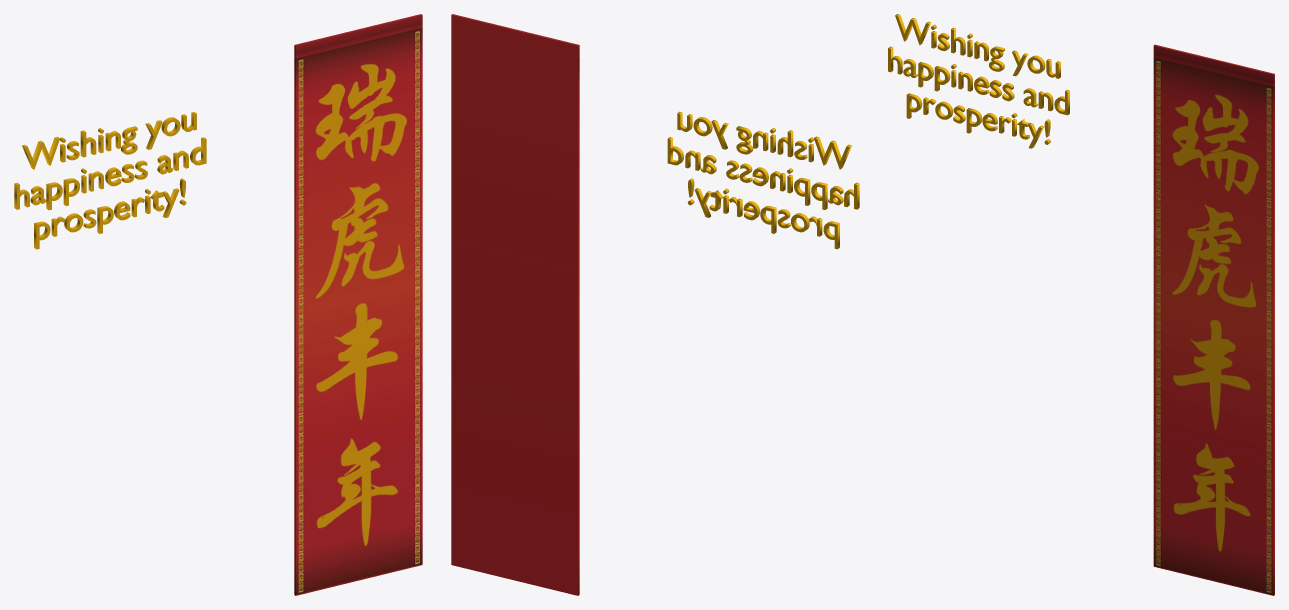
Rendered from scroll2.gltf.
3 views of the same model, side by side, from view 1: azimuth 30°, elevation 25°; view 2: azimuth 150°, elevation 25°; view 3: azimuth 330°, elevation 25° (orthographic). The views are drawn at different scales.
Parts seen in each view (by area): view 1: ChineseScroll, Text; view 2: ChineseScroll, Text; view 3: ChineseScroll, Text.
Part boxes in pixels (left/top/right/bottom): ChineseScroll: left=294, top=14, right=422, bottom=595; Text: left=14, top=112, right=206, bottom=249; ChineseScroll: left=451, top=14, right=579, bottom=595; Text: left=667, top=111, right=859, bottom=249; ChineseScroll: left=1153, top=44, right=1274, bottom=595; Text: left=888, top=14, right=1069, bottom=148.
Size of the model in its own units: 5.77 by 7.47 by 0.06.
2 materials, 1 textured.
